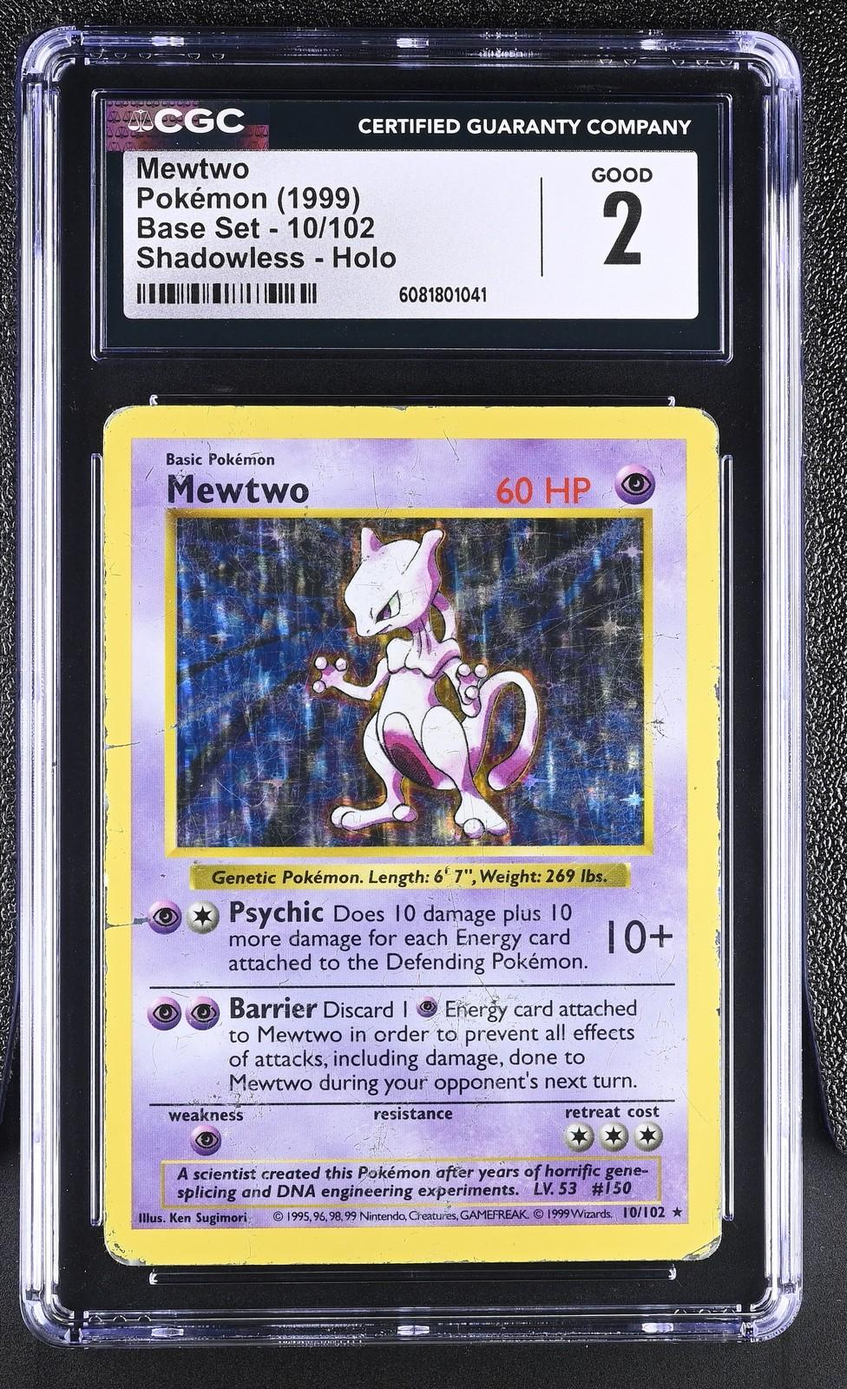card-2UtV: (103, 405, 722, 1266)
